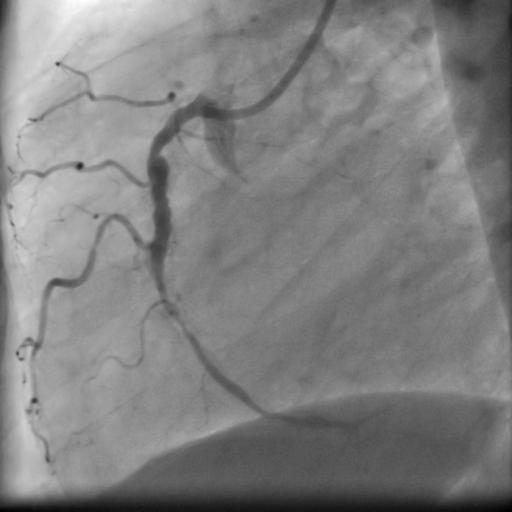Stenosis: (144, 138, 166, 158)
